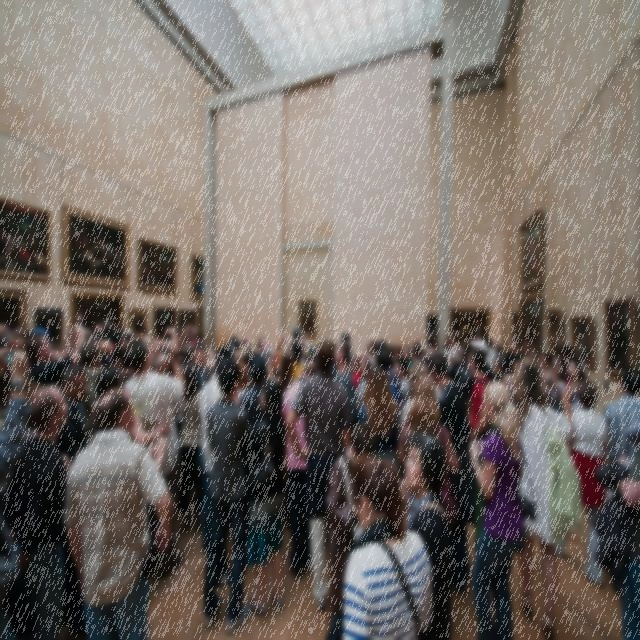pessoa: (58, 380, 177, 638), (502, 352, 578, 639), (282, 335, 357, 615), (0, 290, 211, 382), (338, 452, 436, 639), (199, 353, 256, 635), (122, 336, 187, 582), (228, 326, 501, 384), (468, 378, 526, 639), (550, 374, 612, 594), (196, 341, 247, 591), (426, 347, 474, 596), (398, 429, 454, 639), (243, 374, 290, 624), (326, 420, 380, 632), (53, 361, 93, 638), (280, 356, 326, 584), (398, 371, 460, 526), (592, 443, 639, 639), (500, 301, 589, 388), (292, 324, 360, 430), (89, 365, 173, 446), (176, 362, 205, 536), (358, 364, 402, 472), (24, 320, 86, 396), (600, 366, 640, 462), (76, 338, 105, 448), (238, 347, 276, 428), (71, 228, 123, 278), (467, 346, 493, 442), (1, 218, 44, 275), (606, 300, 632, 370), (520, 226, 542, 280), (140, 250, 176, 282), (449, 307, 492, 329), (299, 298, 317, 330), (192, 264, 206, 293), (12, 326, 24, 350), (426, 311, 440, 329)
